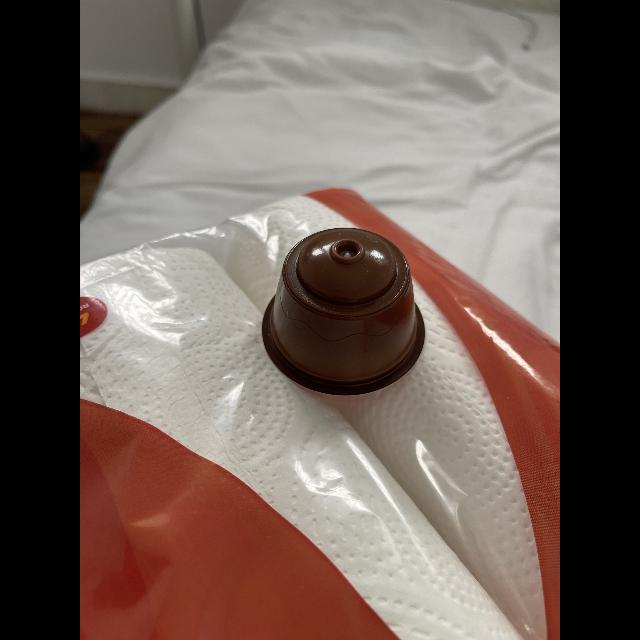intact_capsule: (250, 222, 432, 402)
